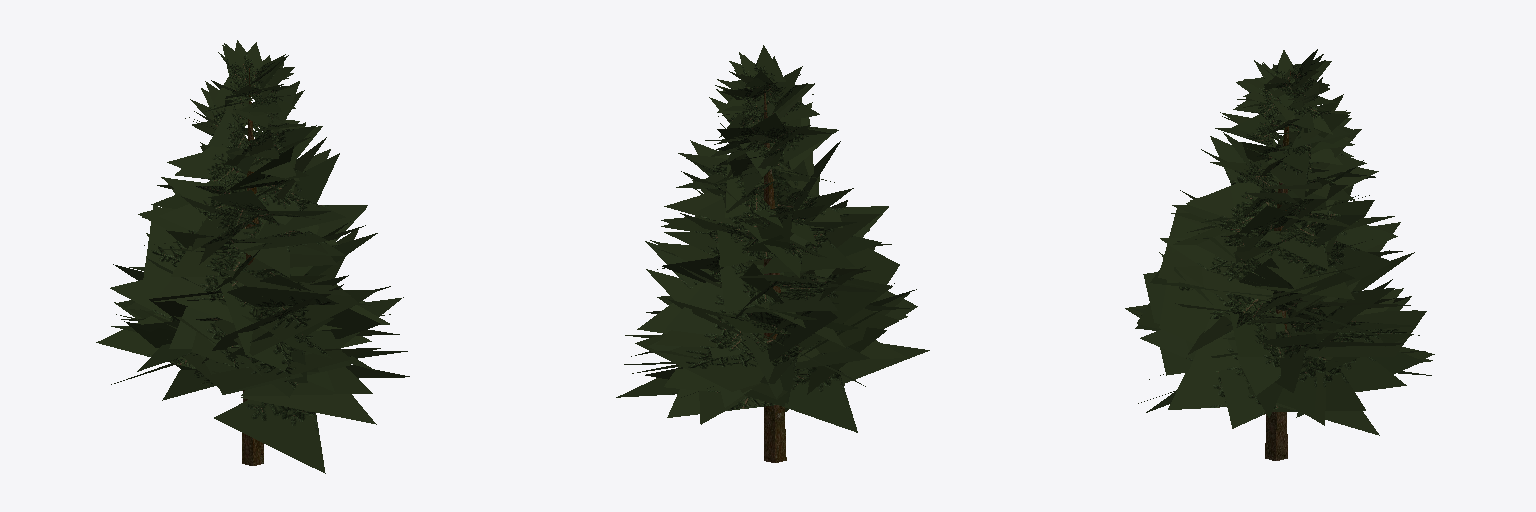
3 renders of one model, left to right at view 1: azimuth 30°, elevation 25°; view 2: azimuth 150°, elevation 25°; view 3: azimuth 270°, elevation 25°, orthographic.
Bounding box in the file's own units: 6.92 × 10.3 × 7.29.
2 materials, 2 textured.